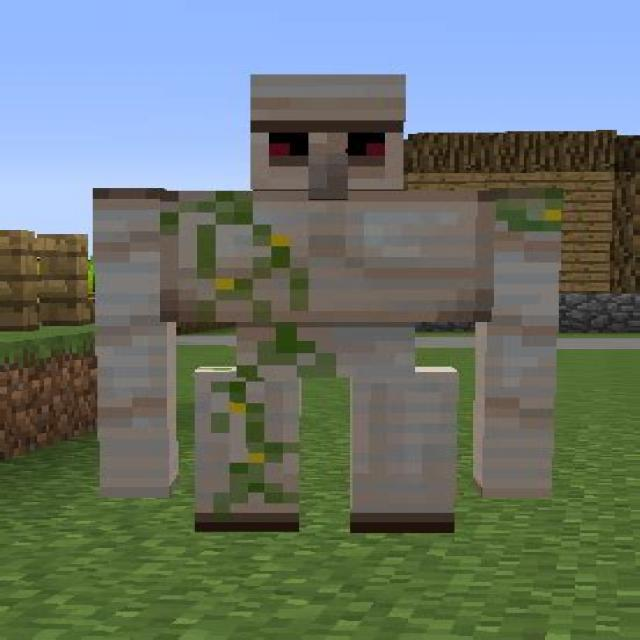Iron Golem: (86, 70, 561, 538)
